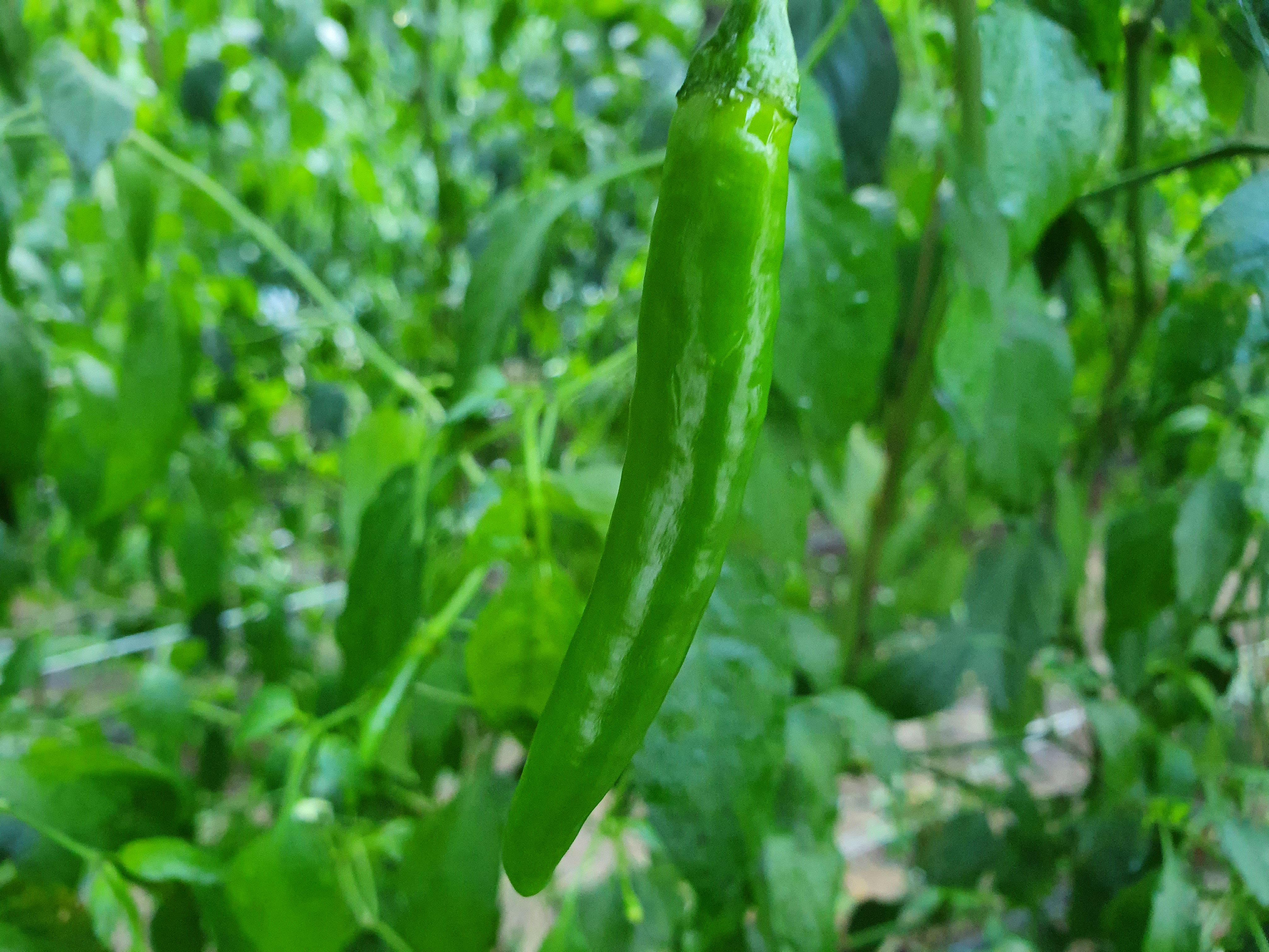Buah Cabai Sehat: (496, 0, 804, 896)
